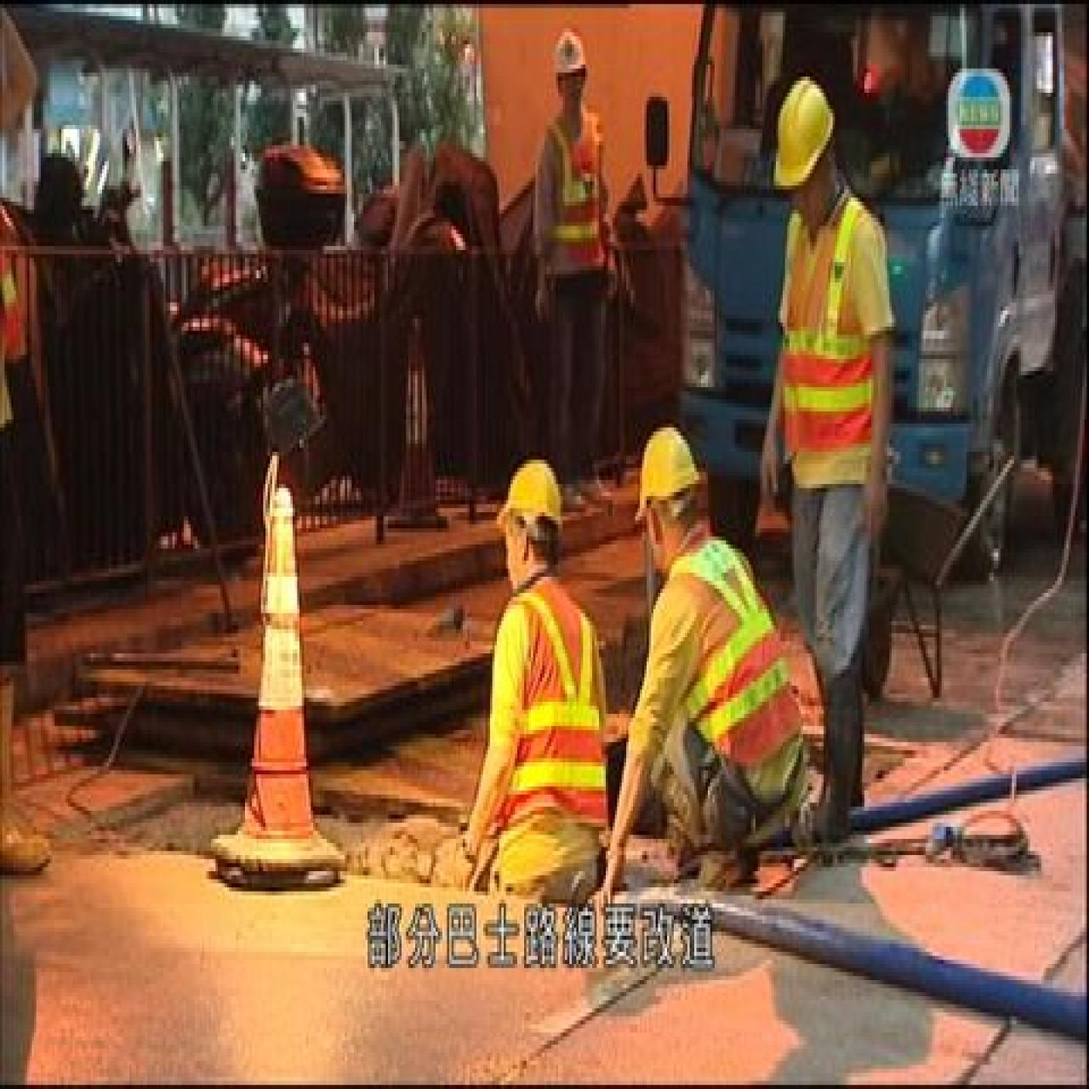Person: (751, 74, 902, 840), (595, 425, 813, 906), (432, 430, 626, 936), (530, 14, 641, 502)
Safety_Vest: (660, 537, 800, 784), (489, 581, 614, 837), (779, 197, 890, 485), (542, 109, 610, 274)
